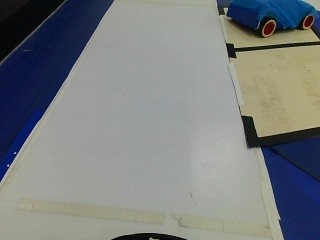car: (222, 1, 318, 36)
